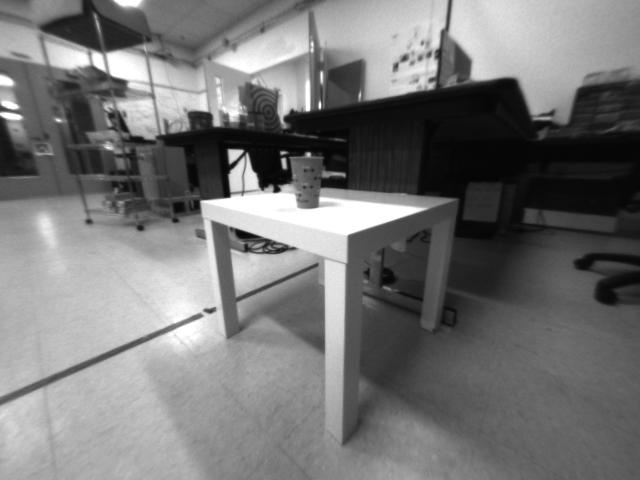coffee_cup: (285, 153, 327, 209)
